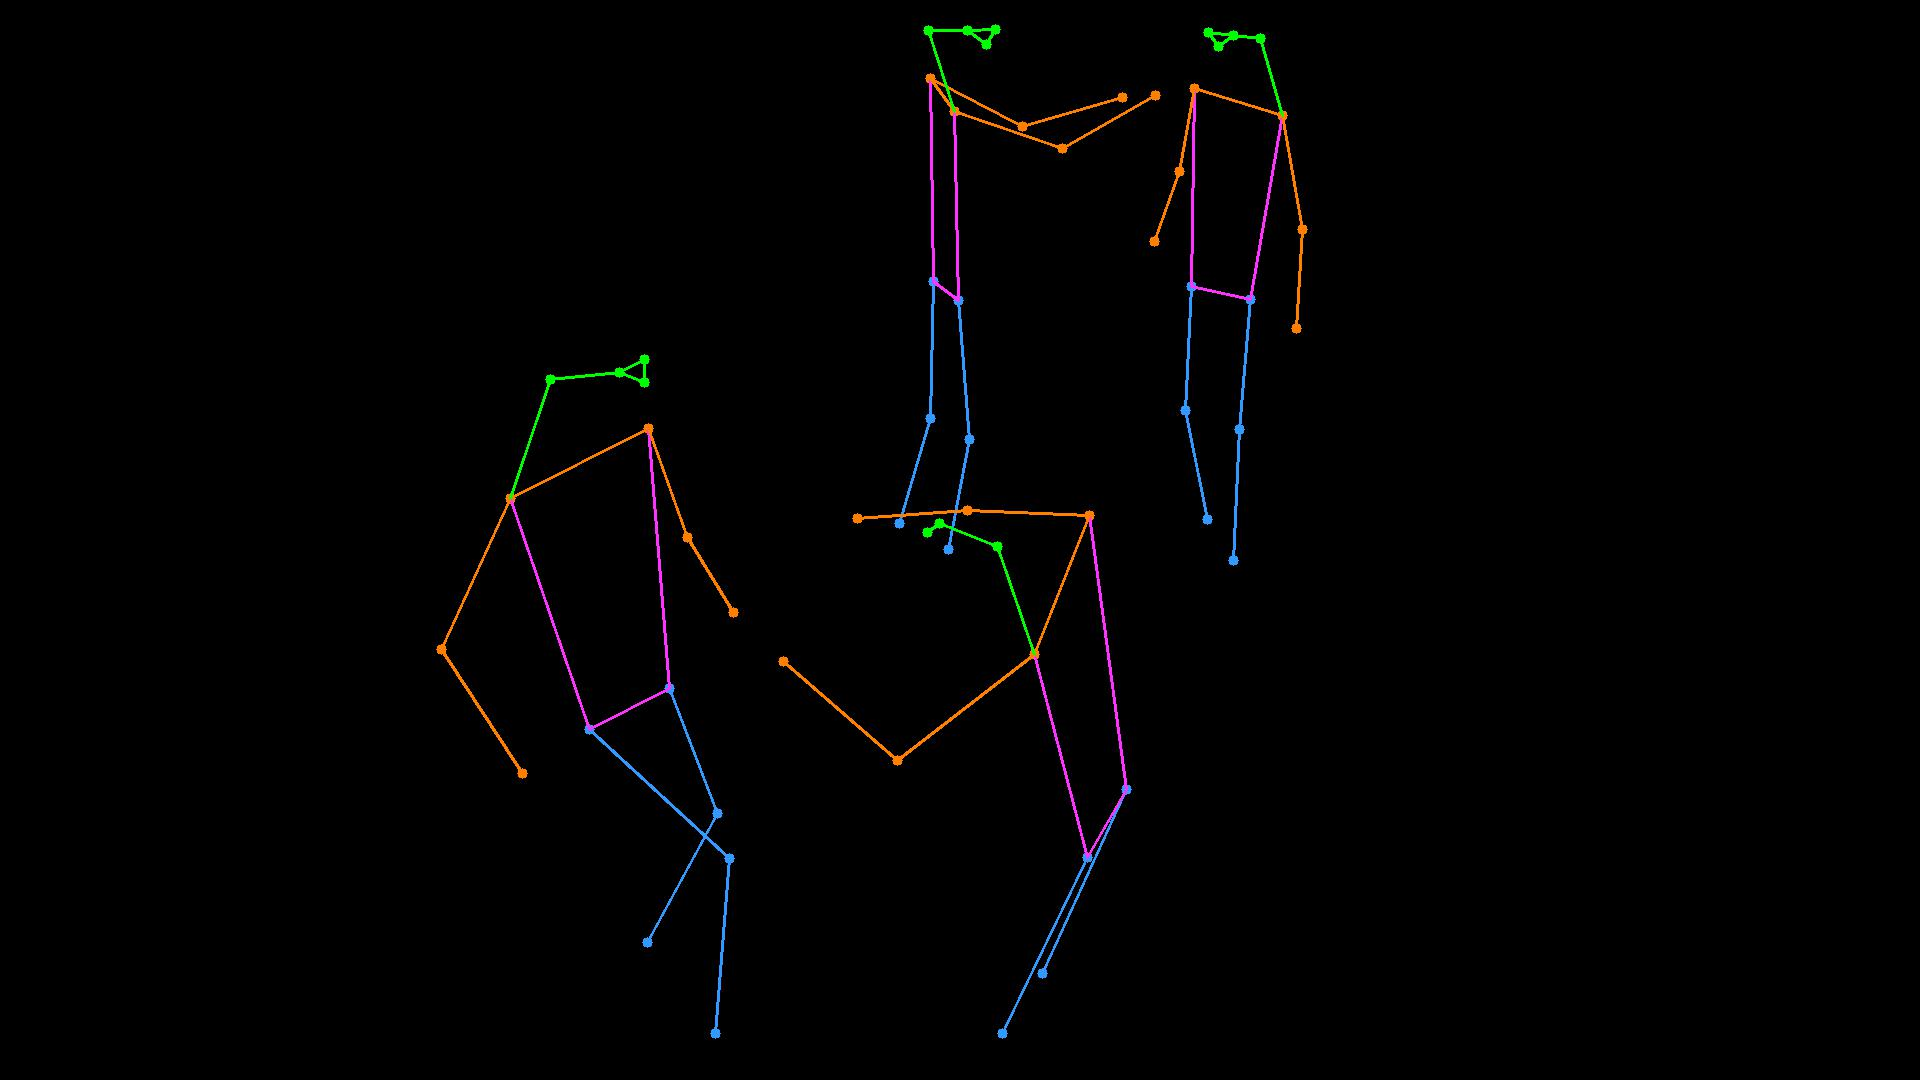normal: (423, 313, 769, 1080), (847, 7, 1160, 562), (1160, 25, 1327, 595)
